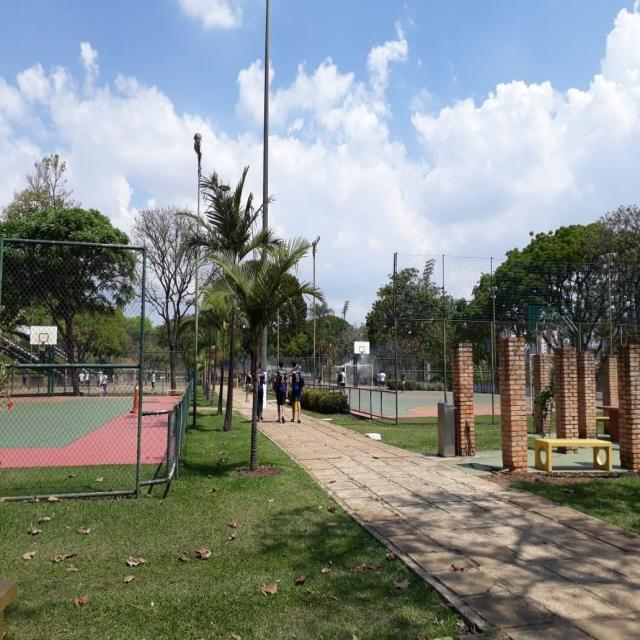Smoke: (346, 357, 368, 375)
